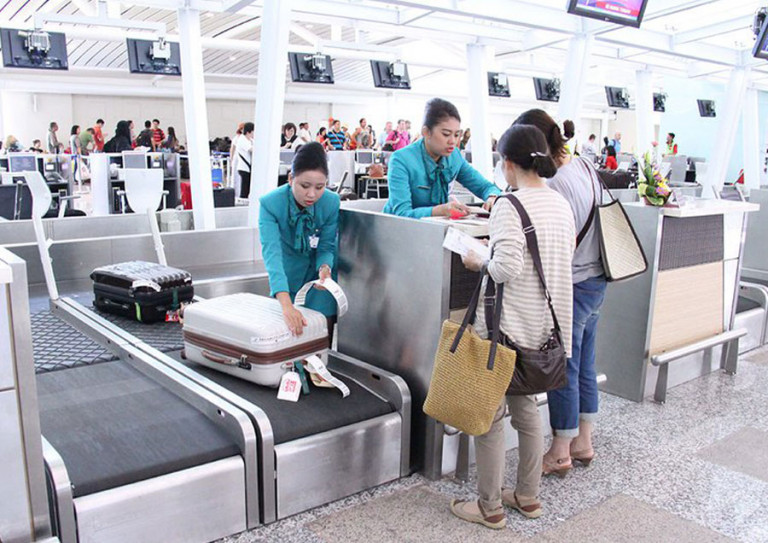bag: (418, 249, 522, 438), (481, 199, 574, 402), (582, 166, 652, 286)
luggage: (179, 288, 342, 397), (84, 257, 202, 329)
people: (457, 120, 558, 529), (253, 140, 350, 353), (374, 95, 505, 232)
